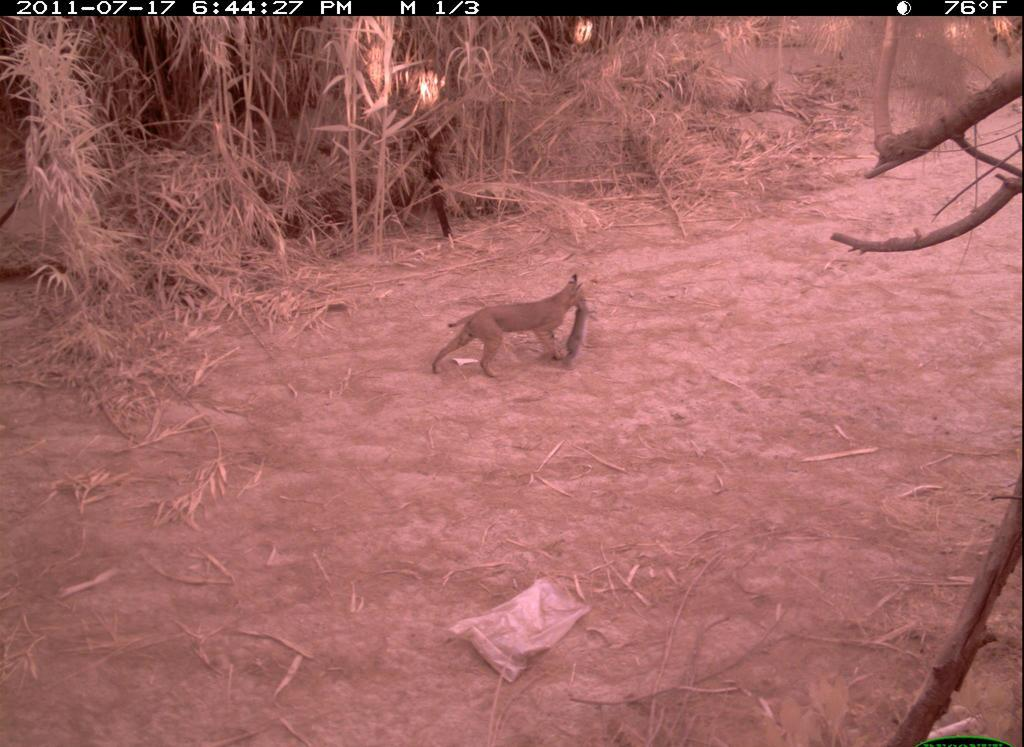bobcat: (429, 273, 601, 384)
